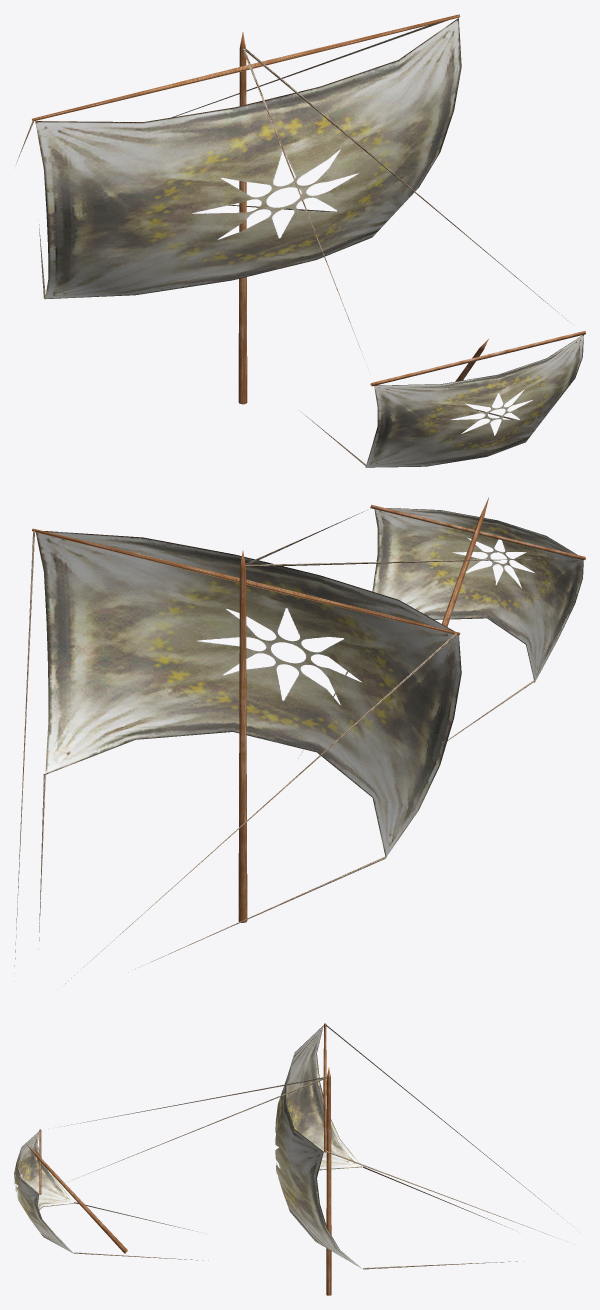
Rendered from hele_tric_mast.dae.
The picture shows the model from 3 angles, top to bottom: view 1: azimuth 30°, elevation 25°; view 2: azimuth 150°, elevation 25°; view 3: azimuth 270°, elevation 25°; orthographic projection. The views are drawn at different scales.
Visible parts, largest first — view 1: Mast; view 2: Mast; view 3: Mast.
Part boxes in pixels (<box>): Mast: <box>16,14,585,467</box>; Mast: <box>14,497,585,983</box>; Mast: <box>14,1023,569,1295</box>.
Size of the model in its own units: 34.41 by 65.07 by 28.61.
1 material, 1 textured.
